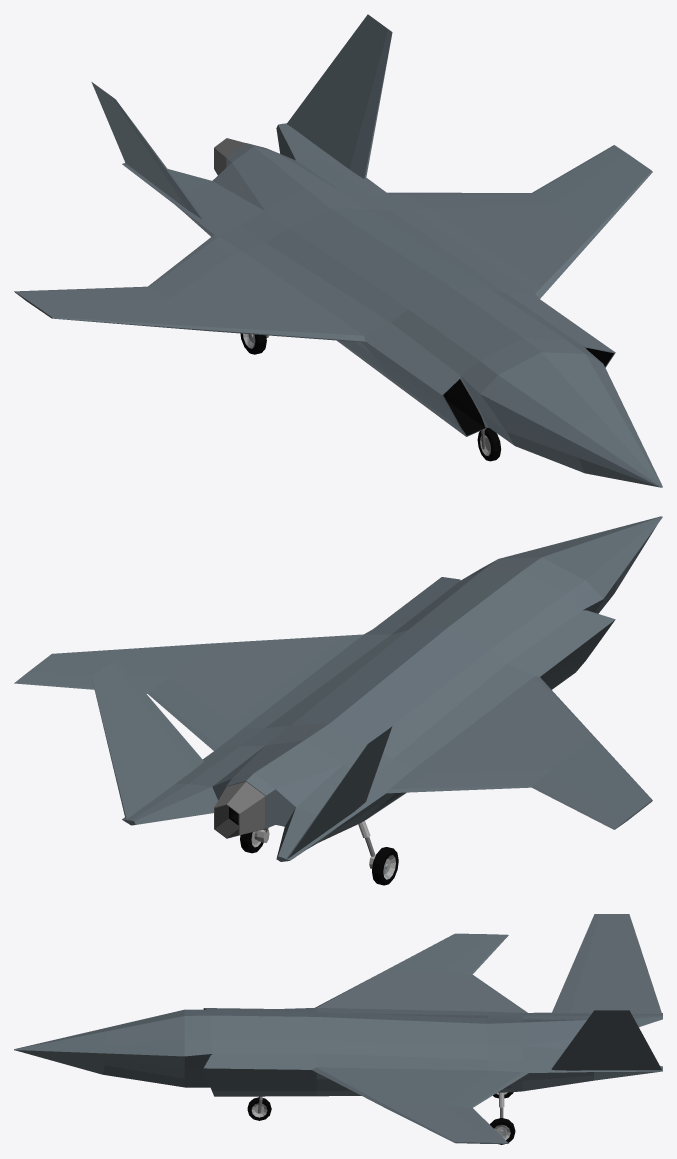
3 renders of one model, top to bottom at view 1: azimuth 30°, elevation 25°; view 2: azimuth 150°, elevation 25°; view 3: azimuth 270°, elevation 25°, orthographic. The views are drawn at different scales.
Visible parts, largest first — view 1: body.002, L_rudder.002, R_Rudder.002, R_ailerone.002, L_ailerone.002; view 2: body.002, L_rudder.002, R_Rudder.002, R_ailerone.002, L_ailerone.002, Landing gear_RR.002; view 3: body.002, R_Rudder.002, L_rudder.002, L_ailerone.002, R_ailerone.002, Landing gear_RL.002, Landing gear_F.002.
Boxes of the visible parts, x1,y1,x2,y2 form: body.002: [14, 123, 662, 487]; L_rudder.002: [287, 14, 392, 179]; R_Rudder.002: [91, 82, 204, 219]; R_ailerone.002: [148, 241, 230, 298]; L_ailerone.002: [404, 192, 550, 207]; body.002: [14, 516, 662, 861]; L_rudder.002: [91, 658, 203, 819]; R_Rudder.002: [287, 726, 392, 858]; R_ailerone.002: [404, 770, 550, 792]; L_ailerone.002: [148, 676, 230, 743]; Landing gear_RR.002: [358, 820, 398, 885]; body.002: [14, 933, 662, 1143]; R_Rudder.002: [552, 914, 661, 1013]; L_rudder.002: [551, 1010, 661, 1070]; L_ailerone.002: [444, 1075, 521, 1107]; R_ailerone.002: [444, 973, 521, 1008]; Landing gear_RL.002: [490, 1092, 515, 1144]; Landing gear_F.002: [247, 1096, 271, 1120].
Bounding box in the file's own units: 674 × 239 × 886.
